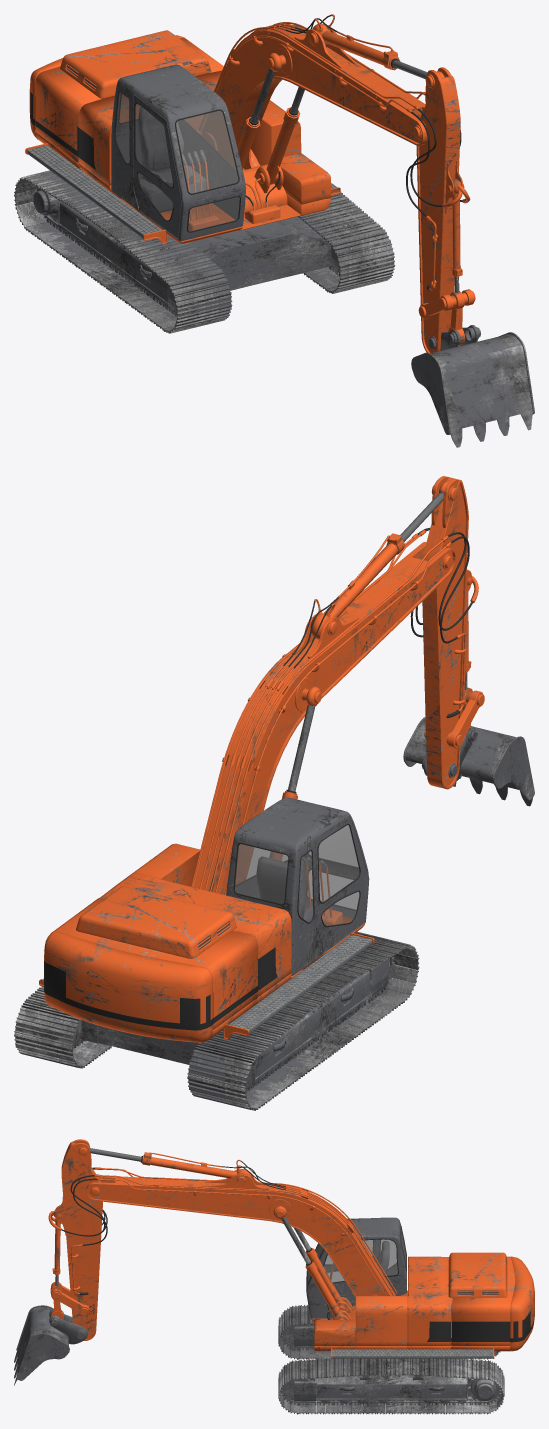
Rendered from wajueji.FBX.
3 renders of one model, top to bottom at view 1: azimuth 30°, elevation 25°; view 2: azimuth 150°, elevation 25°; view 3: azimuth 270°, elevation 25°, orthographic. The views are drawn at different scales.
Visible parts, largest first — view 1: wajueji; view 2: wajueji; view 3: wajueji.
Boxes of the visible parts, box(x1,y1,x2,y2) form: wajueji: box(14, 14, 534, 447); wajueji: box(14, 476, 534, 1110); wajueji: box(14, 1139, 534, 1414).
Bounding box in the file's own units: 349 × 535 × 1053.
Materials: 5 (4 with a texture image).
